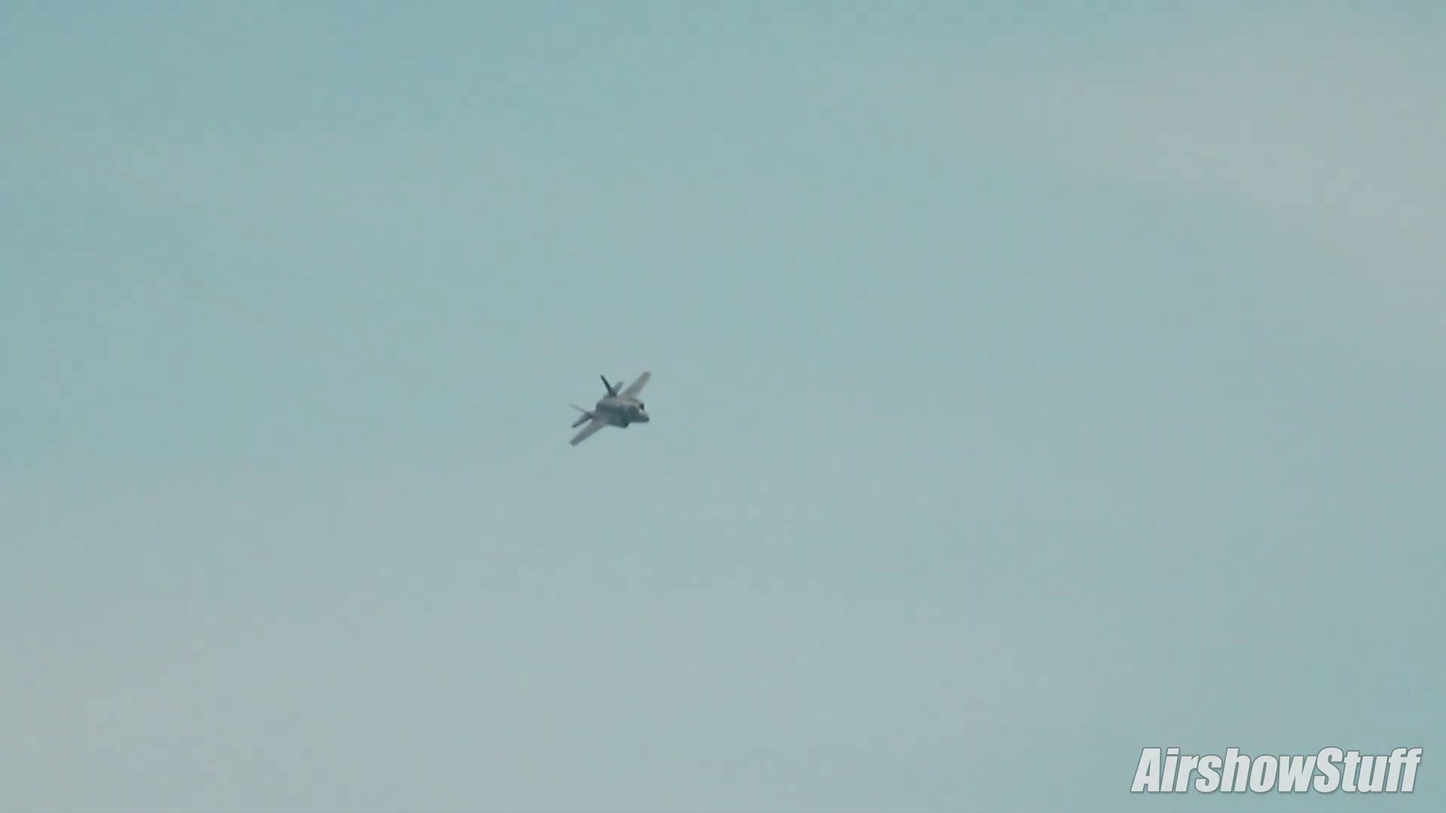F35: (563, 367, 659, 449)
